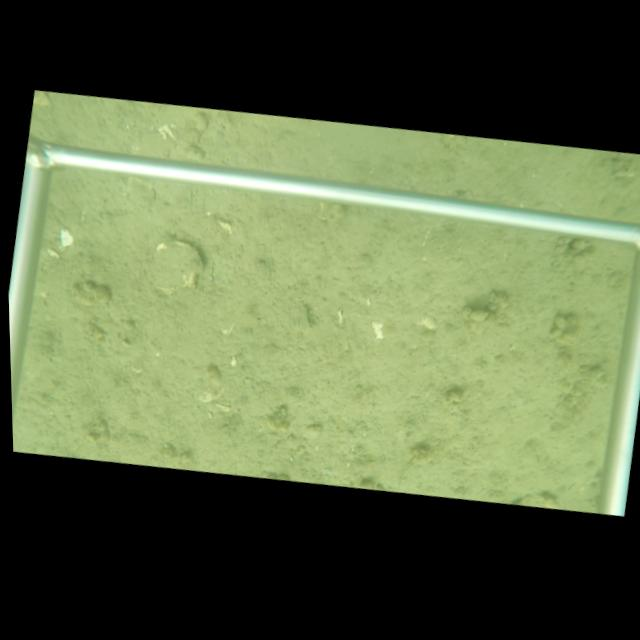Oyster-Indeterminate: (147, 239, 203, 296)
